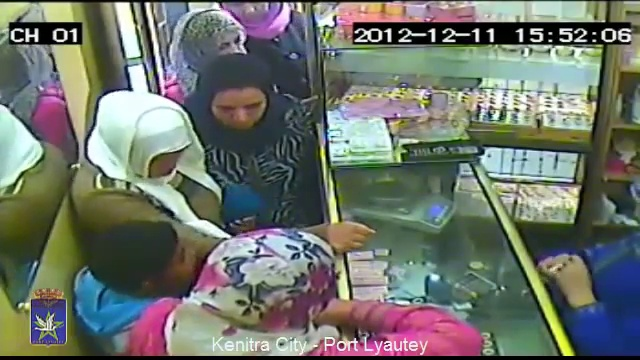face: (206, 89, 271, 135)
